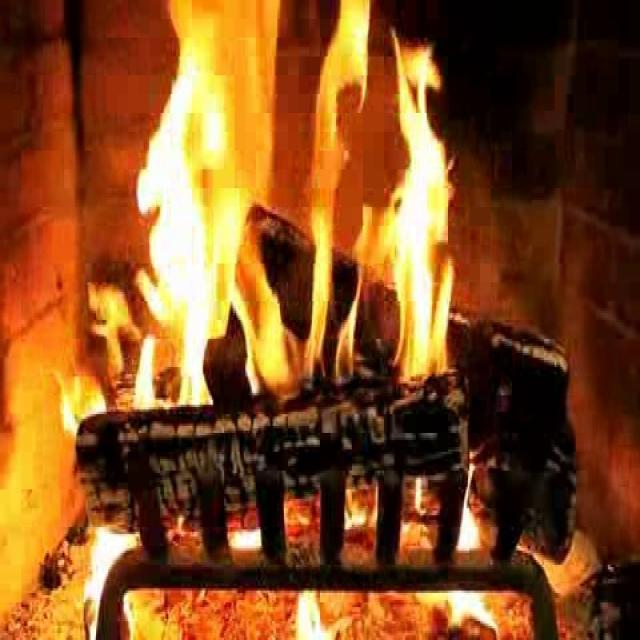Fire: (12, 0, 639, 444)
